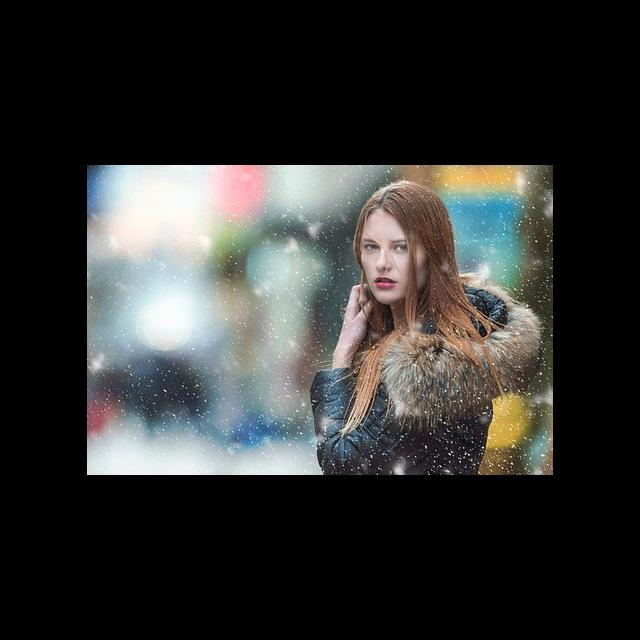female: (326, 177, 470, 310)
